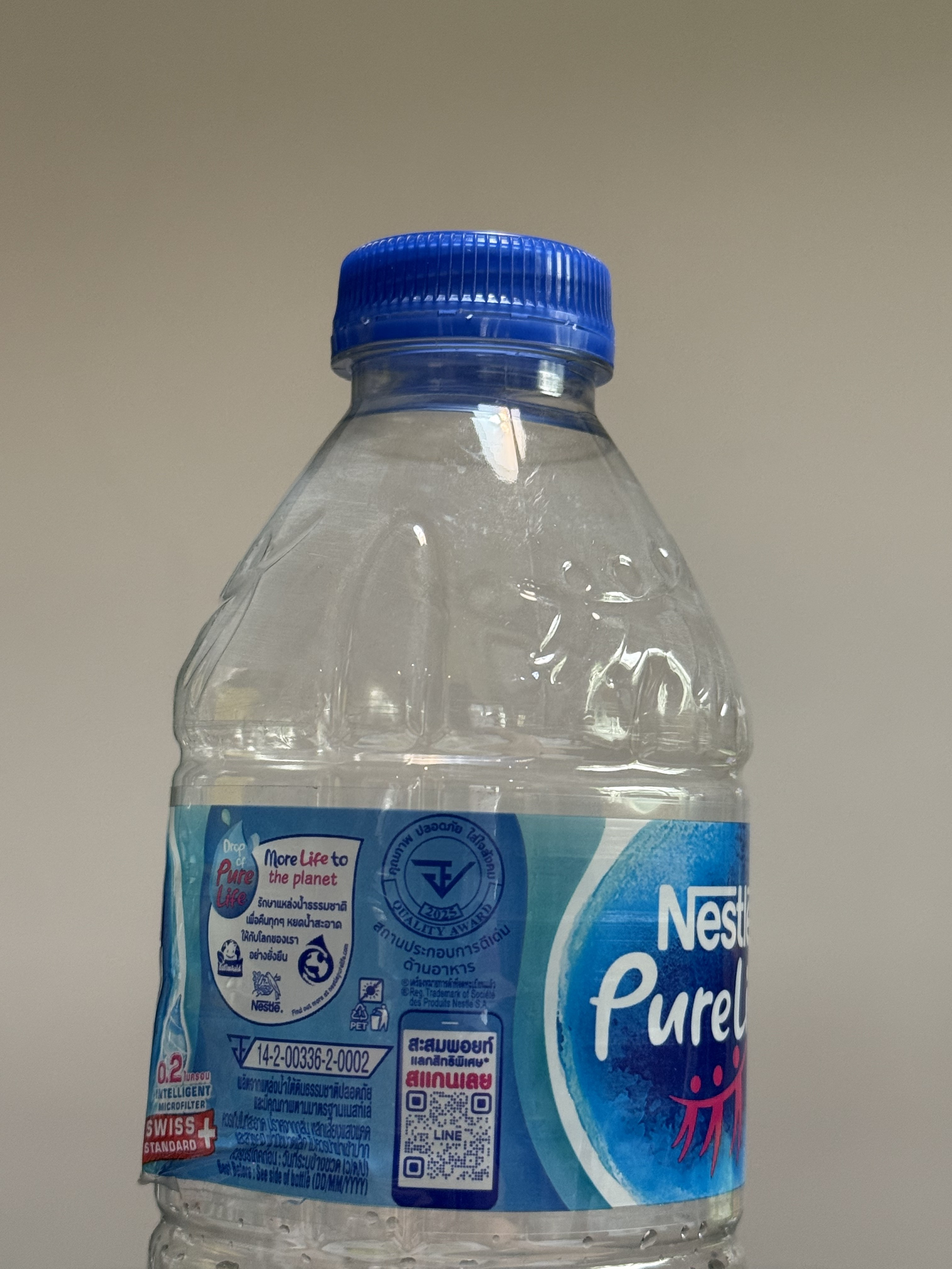closed_cap: (326, 225, 618, 383)
